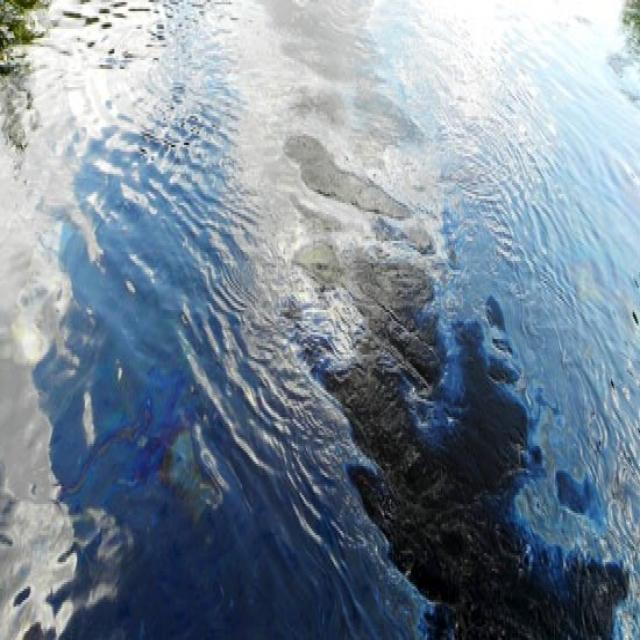truecolor: (327, 323, 630, 639), (296, 241, 446, 384), (285, 136, 412, 217)
